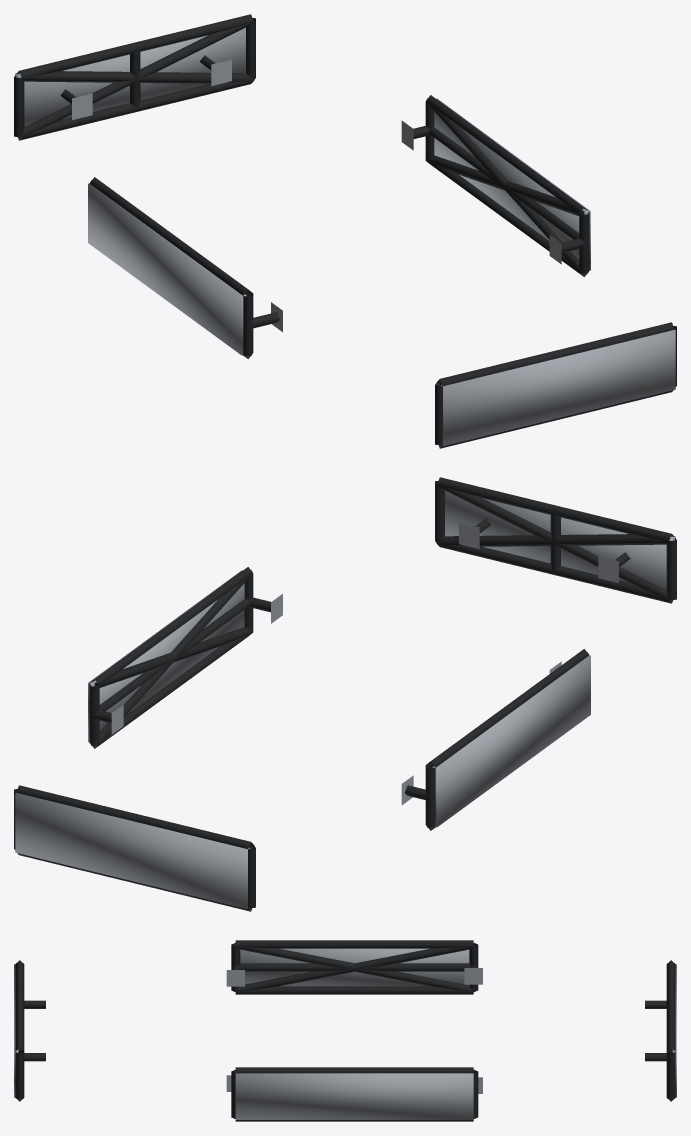
The model's file is kanaya_pingo_protecao.glb.
3 views of the same model, one above another, from view 1: azimuth 30°, elevation 25°; view 2: azimuth 150°, elevation 25°; view 3: azimuth 270°, elevation 25° (orthographic). The views are drawn at different scales.
Visible parts, largest first — view 1: Protection_front_Level3_Details, Protection_left_Level3_Details, Protection_rear_Level1_Details, Protection_rear_Level3_Details, Protection_right_Level1_Details, Protection_rear_Level2_Details, Protection_right_Level2_Details, Protection_right_Level3_Details, Protection_front_Level1_Details, Protection_left_Level1_Details; view 2: Protection_rear_Level3_Details, Protection_left_Level3_Details, Protection_front_Level1_Details, Protection_front_Level3_Details, Protection_right_Level1_Details, Protection_front_Level2_Details, Protection_right_Level2_Details, Protection_right_Level3_Details, Protection_rear_Level1_Details, Protection_left_Level1_Details; view 3: Protection_right_Level3_Details, Protection_left_Level2_Details, Protection_left_Level1_Details, Protection_left_Level3_Details, Protection_right_Level1_Details, Protection_rear_Level1_Details, Protection_front_Level1_Details.
Boxes of the visible parts, <box> form: Protection_front_Level3_Details: <box>441,329,675,445</box>; Protection_left_Level3_Details: <box>88,183,246,355</box>; Protection_rear_Level1_Details: <box>14,14,255,140</box>; Protection_rear_Level3_Details: <box>15,27,245,126</box>; Protection_right_Level1_Details: <box>401,95,589,276</box>; Protection_rear_Level2_Details: <box>16,22,253,139</box>; Protection_right_Level2_Details: <box>426,102,588,276</box>; Protection_right_Level3_Details: <box>434,98,590,270</box>; Protection_front_Level1_Details: <box>435,322,676,448</box>; Protection_left_Level1_Details: <box>89,177,282,358</box>; Protection_rear_Level3_Details: <box>15,792,249,908</box>; Protection_left_Level3_Details: <box>432,655,590,827</box>; Protection_front_Level1_Details: <box>435,477,676,603</box>; Protection_front_Level3_Details: <box>445,490,675,589</box>; Protection_right_Level1_Details: <box>89,567,282,748</box>; Protection_front_Level2_Details: <box>437,485,674,602</box>; Protection_right_Level2_Details: <box>90,574,252,748</box>; Protection_right_Level3_Details: <box>88,570,244,742</box>; Protection_rear_Level1_Details: <box>14,785,255,911</box>; Protection_left_Level1_Details: <box>401,649,589,830</box>; Protection_right_Level3_Details: <box>235,1073,473,1119</box>; Protection_left_Level2_Details: <box>235,943,474,992</box>; Protection_left_Level1_Details: <box>226,940,482,994</box>; Protection_left_Level3_Details: <box>240,948,469,986</box>; Protection_right_Level1_Details: <box>226,1067,482,1121</box>; Protection_rear_Level1_Details: <box>645,960,675,1101</box>; Protection_front_Level1_Details: <box>15,960,45,1101</box>.
Bounding box in the file's own units: 1.85 × 0.354 × 3.93.
1 material, 1 textured.
